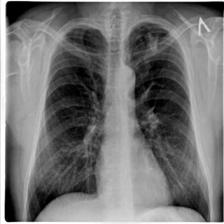tuberculosis: (23, 18, 213, 224)
